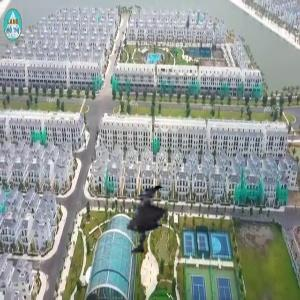drone: (78, 167, 190, 279)
